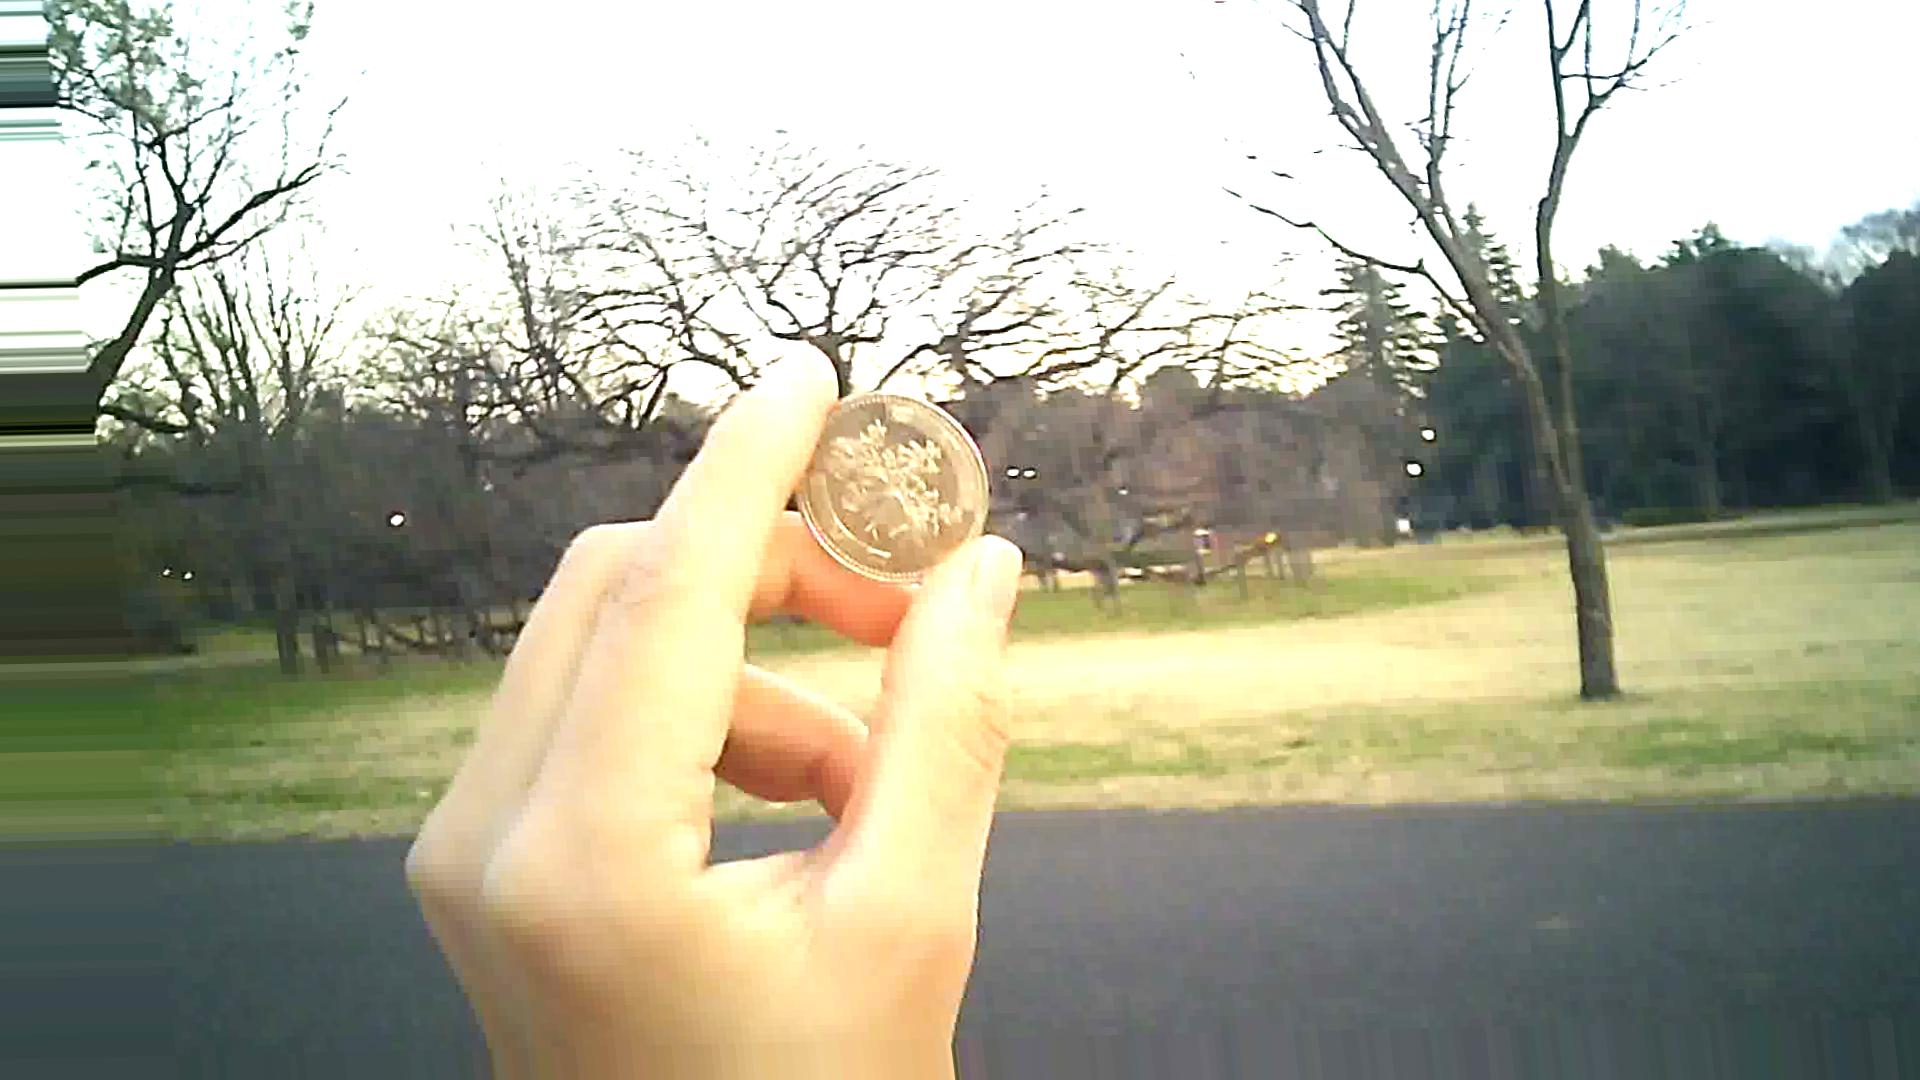500 Yen: (783, 363, 982, 585)
